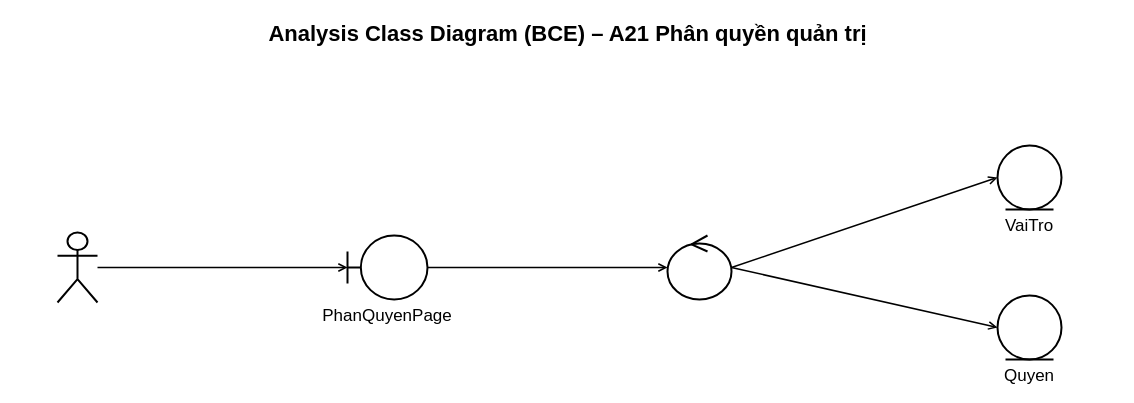
Image size: 1134x403. Some labels were removed from this diagram. The centre of each missing label's shape, as x and y in pixels:
PhanQuyenController: [699,267]
Quản trị viên: [77,267]
